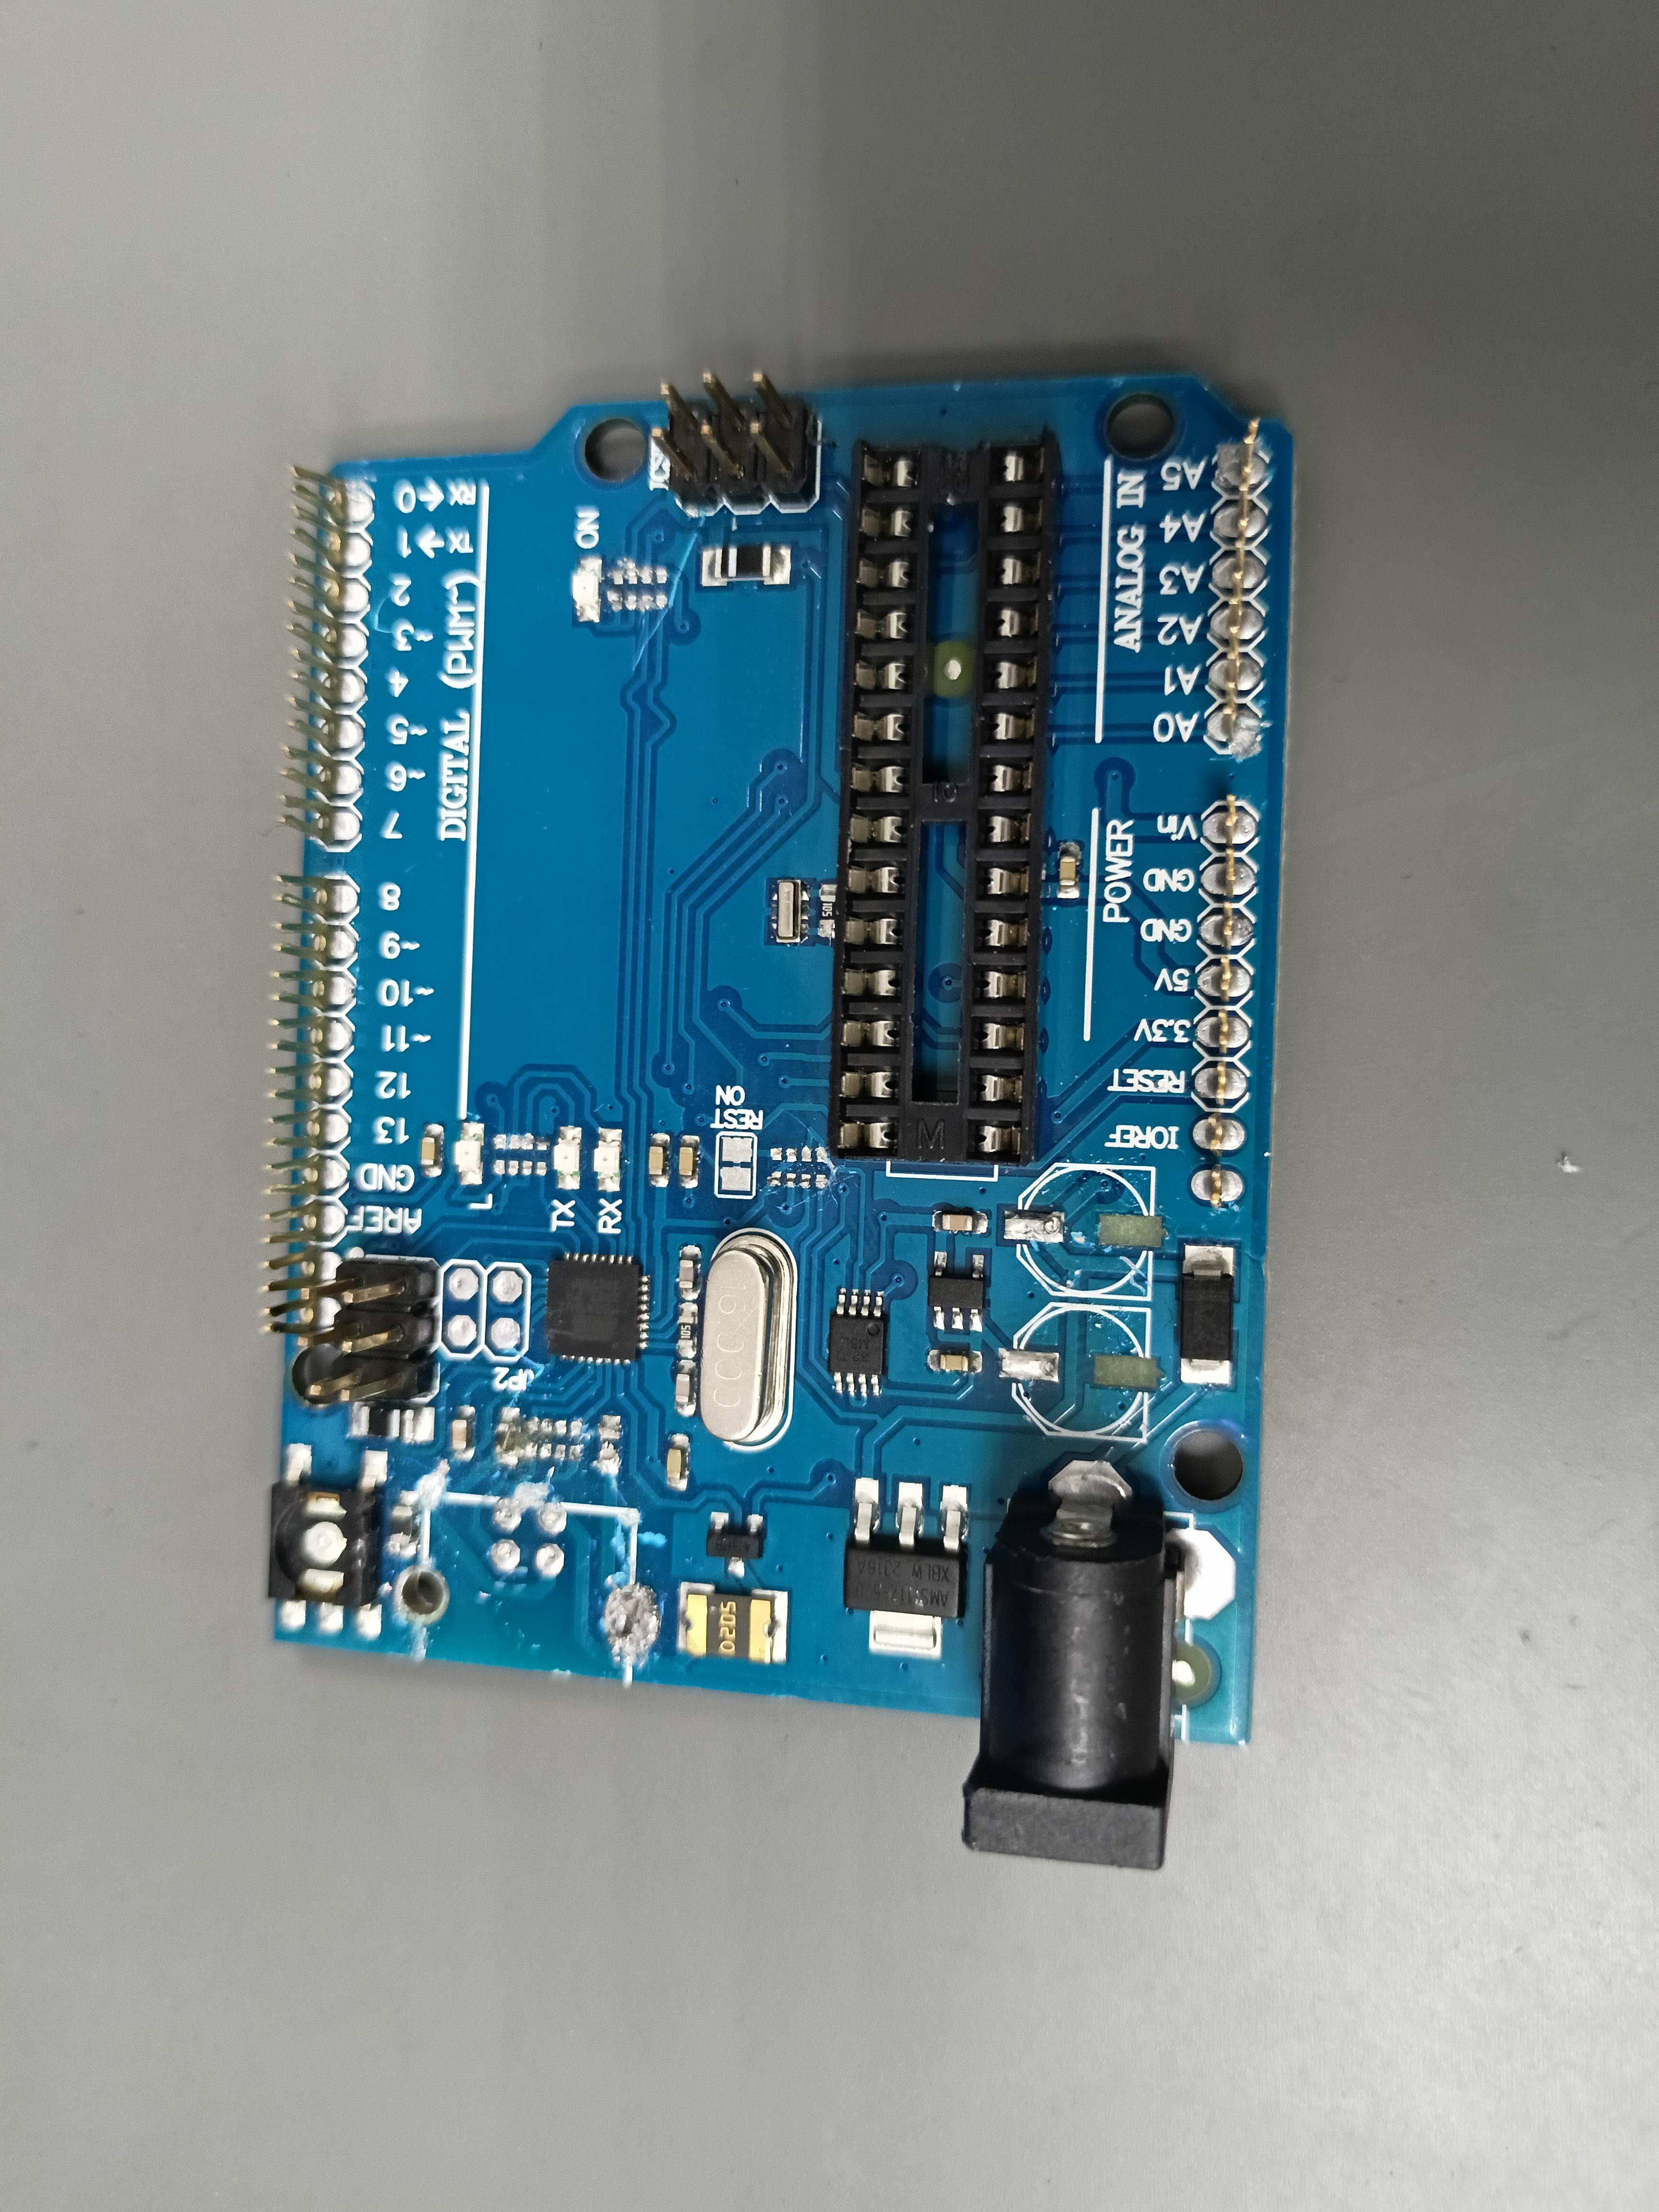Arduino board: (261, 371, 1293, 1867)
